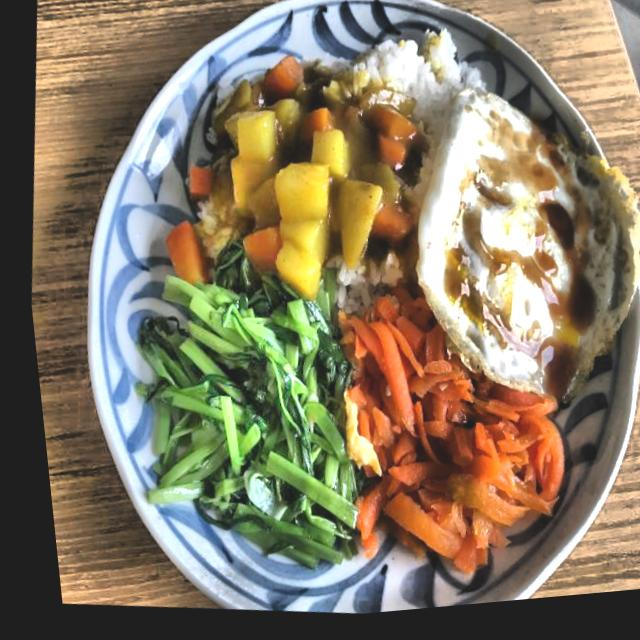Food: (385, 81, 640, 424), (316, 303, 580, 600), (112, 274, 358, 569), (184, 44, 433, 314), (355, 22, 475, 120)
